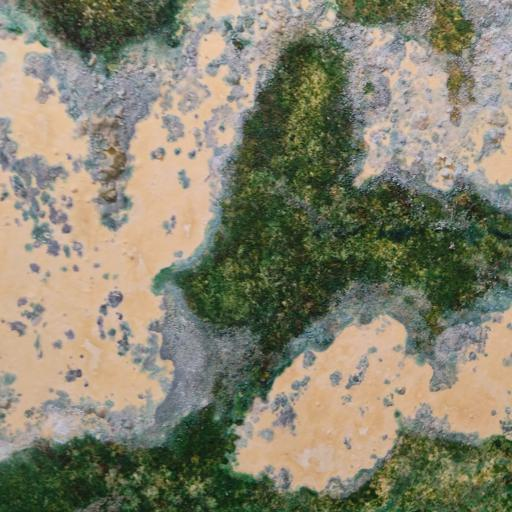algae: (1, 41, 512, 512)
